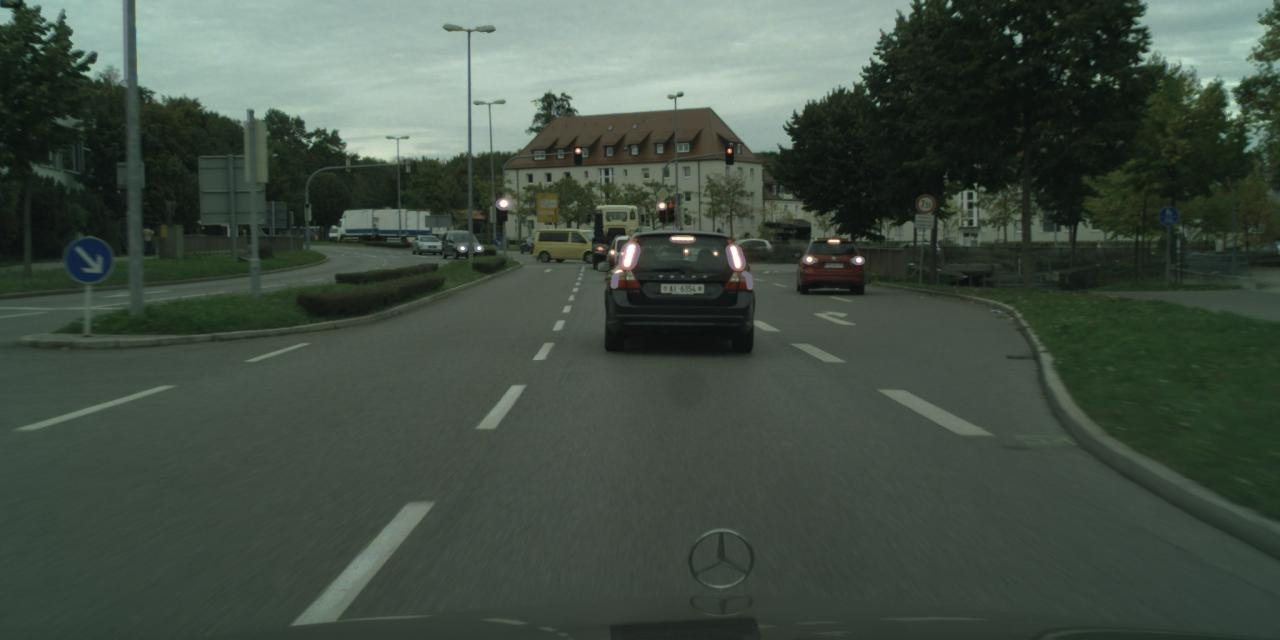ped: (141, 224, 153, 255)
